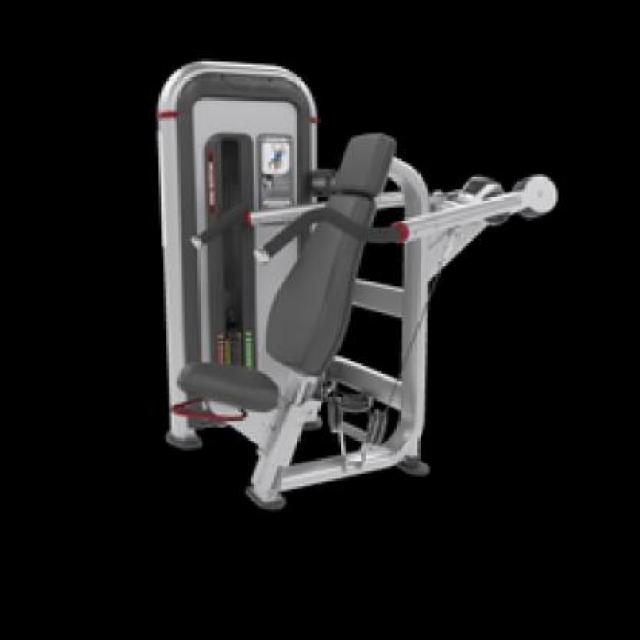shoulder press machine: (156, 55, 558, 514)
